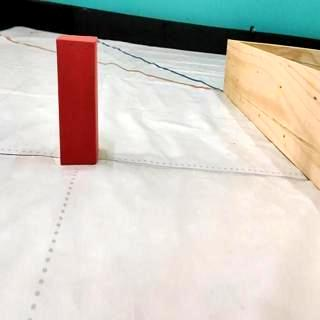redbox: (54, 34, 98, 165)
